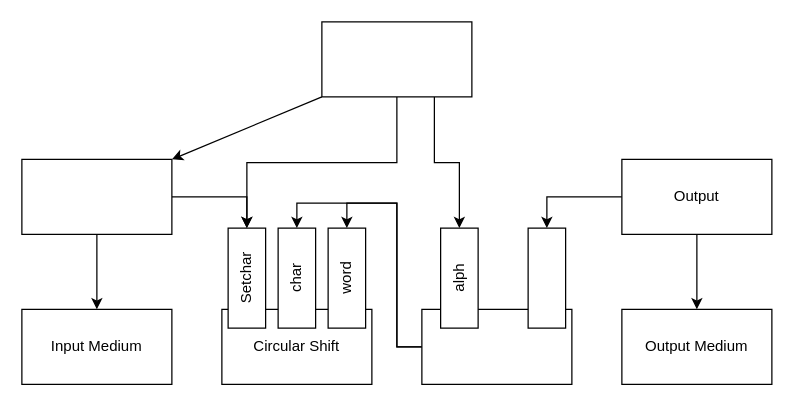
Some shapes in this 794 by 406 pixel diagram are drawn without their labels. The centre of each missing label's shape, as x and y in pixels:
"Alphabetizer" belongs at [496,346].
"Input" belongs at [96,196].
"ith" belongs at [546,277].
"Master Control" belongs at [396,59].
